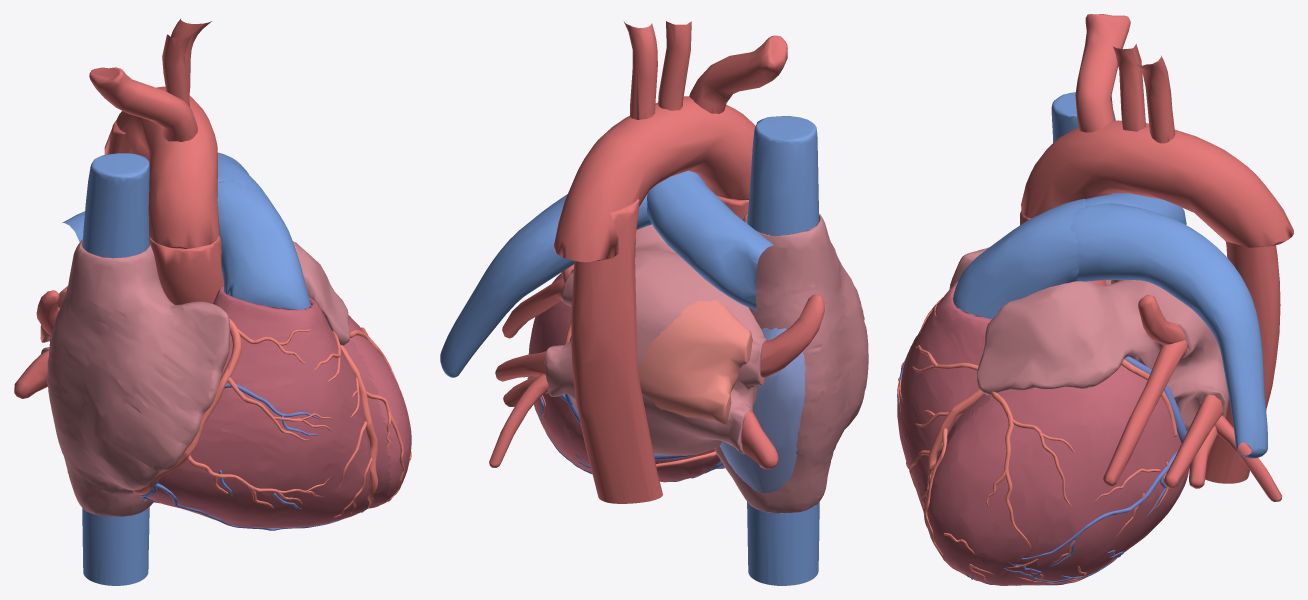
Rendered from heart.glb.
3 renders of one model, left to right at view 1: azimuth 30°, elevation 25°; view 2: azimuth 150°, elevation 25°; view 3: azimuth 270°, elevation 25°, orthographic. The views are drawn at different scales.
Parts seen in each view (by area): view 1: right_atrium, right_ventricle, aorta, pulmonary_trunk, superior_vena_cava, coronary_arteries, aortic_branches, inferior_vena_cava, left_ventricle, left_atrium, septum, pulmonary_veins (+2 smaller); view 2: aorta, right_atrium, pulmonary_arteries, left_atrium, la_blood, aortic_branches, pulmonary_veins, superior_vena_cava, ra_blood, inferior_vena_cava, left_ventricle, cardiac_veins; view 3: left_ventricle, aorta, left_atrium, pulmonary_arteries, right_ventricle, pulmonary_trunk, aortic_branches, pulmonary_veins, coronary_arteries, cardiac_veins, superior_vena_cava, septum.
Part boxes in pixels (left/top/right/bottom): right_atrium: left=47, top=239, right=230, bottom=516; right_ventricle: left=140, top=286, right=369, bottom=528; aorta: left=104, top=86, right=223, bottom=304; pulmonary_trunk: left=217, top=179, right=310, bottom=309; superior_vena_cava: left=82, top=153, right=149, bottom=257; coronary_arteries: left=133, top=318, right=411, bottom=518; aortic_branches: left=89, top=19, right=211, bottom=141; inferior_vena_cava: left=82, top=507, right=149, bottom=585; left_ventricle: left=348, top=315, right=411, bottom=503; left_atrium: left=41, top=241, right=350, bottom=353; septum: left=343, top=340, right=392, bottom=510; pulmonary_veins: left=14, top=290, right=59, bottom=398; aorta: left=554, top=96, right=755, bottom=503; right_atrium: left=714, top=213, right=868, bottom=513; pulmonary_arteries: left=440, top=170, right=773, bottom=377; left_atrium: left=544, top=224, right=767, bottom=455; la_blood: left=638, top=300, right=752, bottom=424; aortic_branches: left=624, top=21, right=787, bottom=119; pulmonary_veins: left=489, top=264, right=824, bottom=469; superior_vena_cava: left=747, top=116, right=818, bottom=235; ra_blood: left=720, top=327, right=805, bottom=492; inferior_vena_cava: left=747, top=502, right=819, bottom=585; left_ventricle: left=528, top=273, right=711, bottom=482; cardiac_veins: left=527, top=336, right=724, bottom=481; left_ventricle: left=925, top=365, right=1189, bottom=585; aorta: left=1020, top=120, right=1293, bottom=483; left_atrium: left=977, top=280, right=1229, bottom=431; pulmonary_arteries: left=1070, top=193, right=1267, bottom=458; right_ventricle: left=897, top=281, right=991, bottom=507; pulmonary_trunk: left=953, top=198, right=1085, bottom=319; aortic_branches: left=1075, top=14, right=1175, bottom=143; pulmonary_veins: left=1103, top=295, right=1282, bottom=501; coronary_arteries: left=897, top=297, right=1177, bottom=585; cardiac_veins: left=897, top=349, right=1187, bottom=585; superior_vena_cava: left=1051, top=92, right=1115, bottom=193; septum: left=926, top=394, right=990, bottom=491.
Size of the model in its own units: 0.119 by 0.187 by 0.1268.
